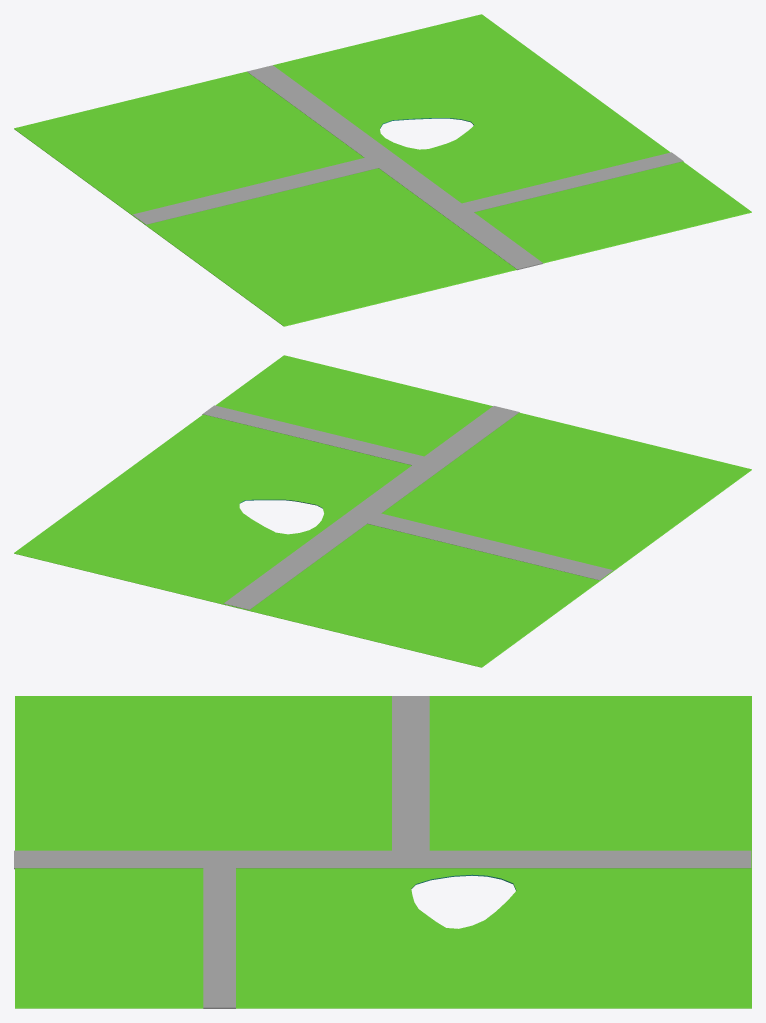
Rendered from Road.fbx.
3 renders of one model, top to bottom at view 1: azimuth 30°, elevation 25°; view 2: azimuth 150°, elevation 25°; view 3: azimuth 270°, elevation 25°, orthographic. The views are drawn at different scales.
Visible parts, largest first — view 1: mainStreet2; view 2: mainStreet2; view 3: mainStreet2.
Part boxes in pixels (x1,y1,x2,y2): mainStreet2: (14,14,751,326); mainStreet2: (14,355,751,667); mainStreet2: (14,696,751,1008).
Bounding box in the file's own units: 9790 × 19.36 × 9790.
